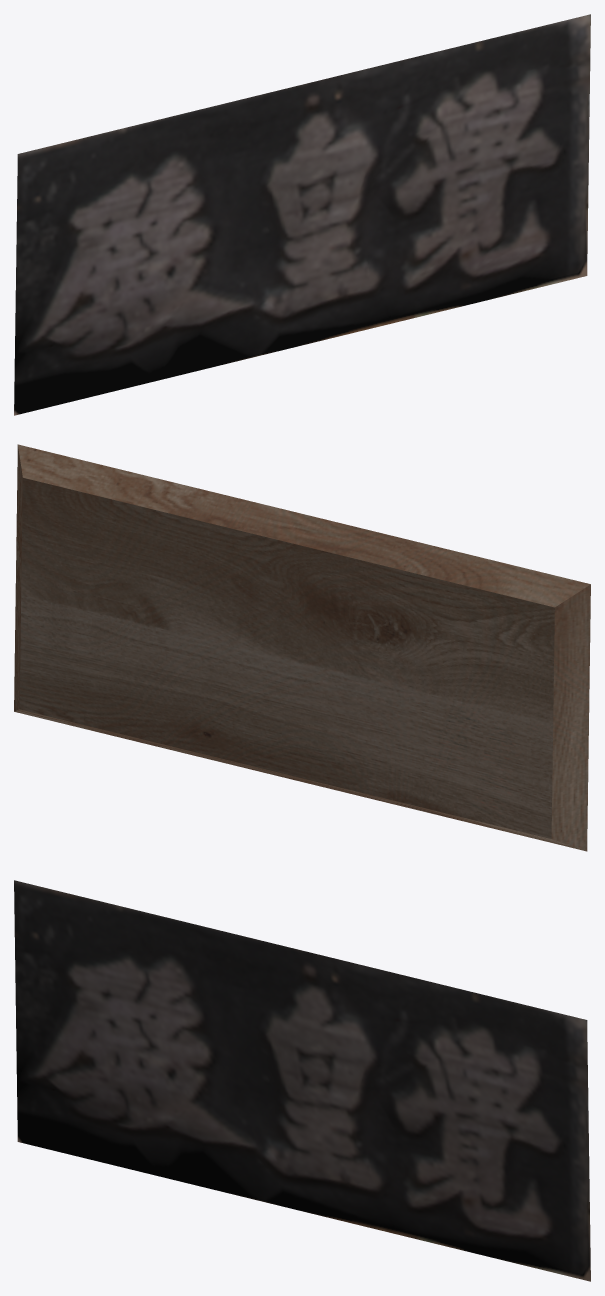
The model's file is SM_Sun_Kak_Sign_B.fbx.
The picture shows the model from 3 angles, top to bottom: view 1: azimuth 30°, elevation 25°; view 2: azimuth 150°, elevation 25°; view 3: azimuth 330°, elevation 25°; orthographic projection.
Visible parts, largest first — view 1: SM_Sun_Kak_Sign_B; view 2: SM_Sun_Kak_Sign_B; view 3: SM_Sun_Kak_Sign_B.
Part boxes in pixels (x1,y1,x2,y2): SM_Sun_Kak_Sign_B: [14, 14, 590, 415]; SM_Sun_Kak_Sign_B: [14, 444, 590, 851]; SM_Sun_Kak_Sign_B: [14, 880, 590, 1281].
Bounding box in the file's own units: 54.37 × 23.98 × 3.09.
